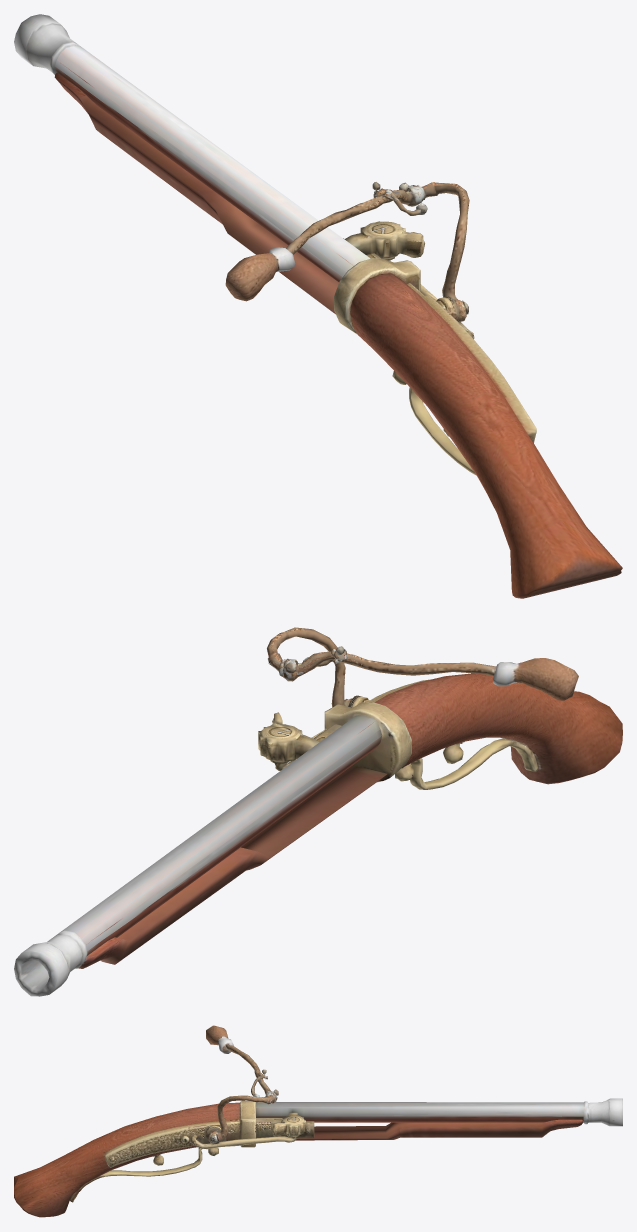
File: flint-pistol.glb
3 views of the same model, one above another, from view 1: azimuth 30°, elevation 25°; view 2: azimuth 150°, elevation 25°; view 3: azimuth 270°, elevation 25° (orthographic). The views are drawn at different scales.
Parts seen in each view (by area): view 1: tripo_node_59644fa9-1ca6-4a6c-b0be-0e4141a25cea; view 2: tripo_node_59644fa9-1ca6-4a6c-b0be-0e4141a25cea; view 3: tripo_node_59644fa9-1ca6-4a6c-b0be-0e4141a25cea.
Boxes of the visible parts, x1,y1,x2,y2 form: tripo_node_59644fa9-1ca6-4a6c-b0be-0e4141a25cea: (14, 14, 622, 598); tripo_node_59644fa9-1ca6-4a6c-b0be-0e4141a25cea: (14, 627, 622, 996); tripo_node_59644fa9-1ca6-4a6c-b0be-0e4141a25cea: (14, 1025, 622, 1217).
Size of the model in its own units: 0.2832 by 0.2637 by 0.998.
1 material, 1 textured.
